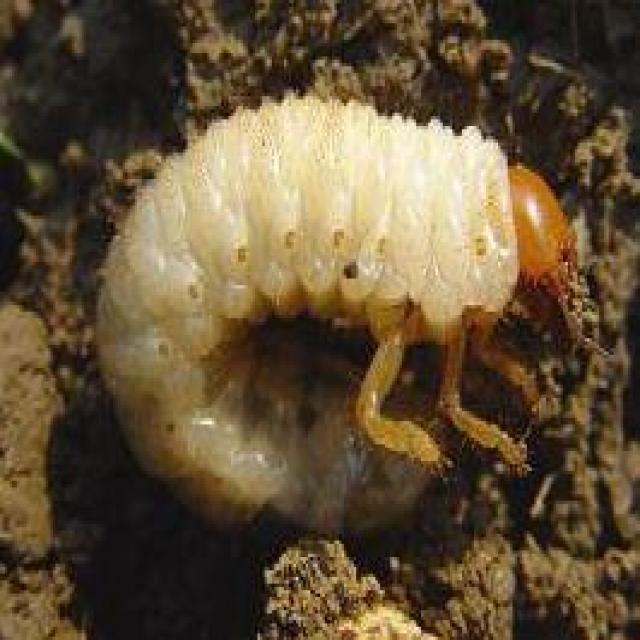Grub-Adult-: (79, 88, 567, 529)
